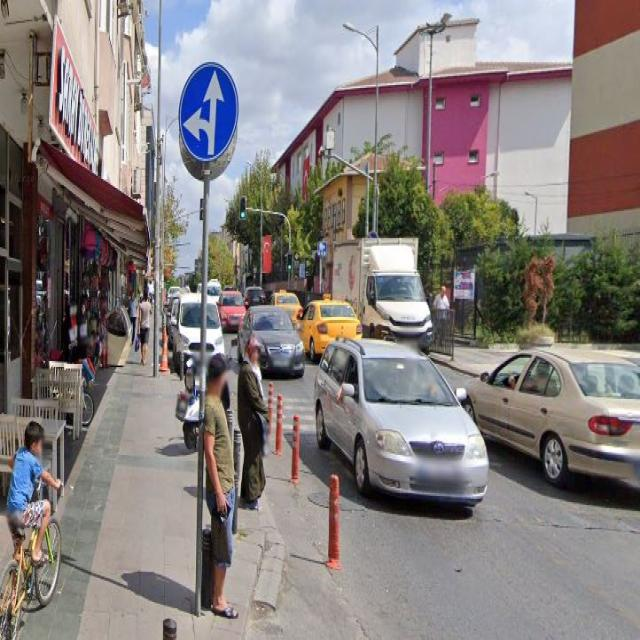ilerisol: (179, 61, 239, 160)
yesil: (240, 196, 247, 218), (287, 255, 292, 271)
